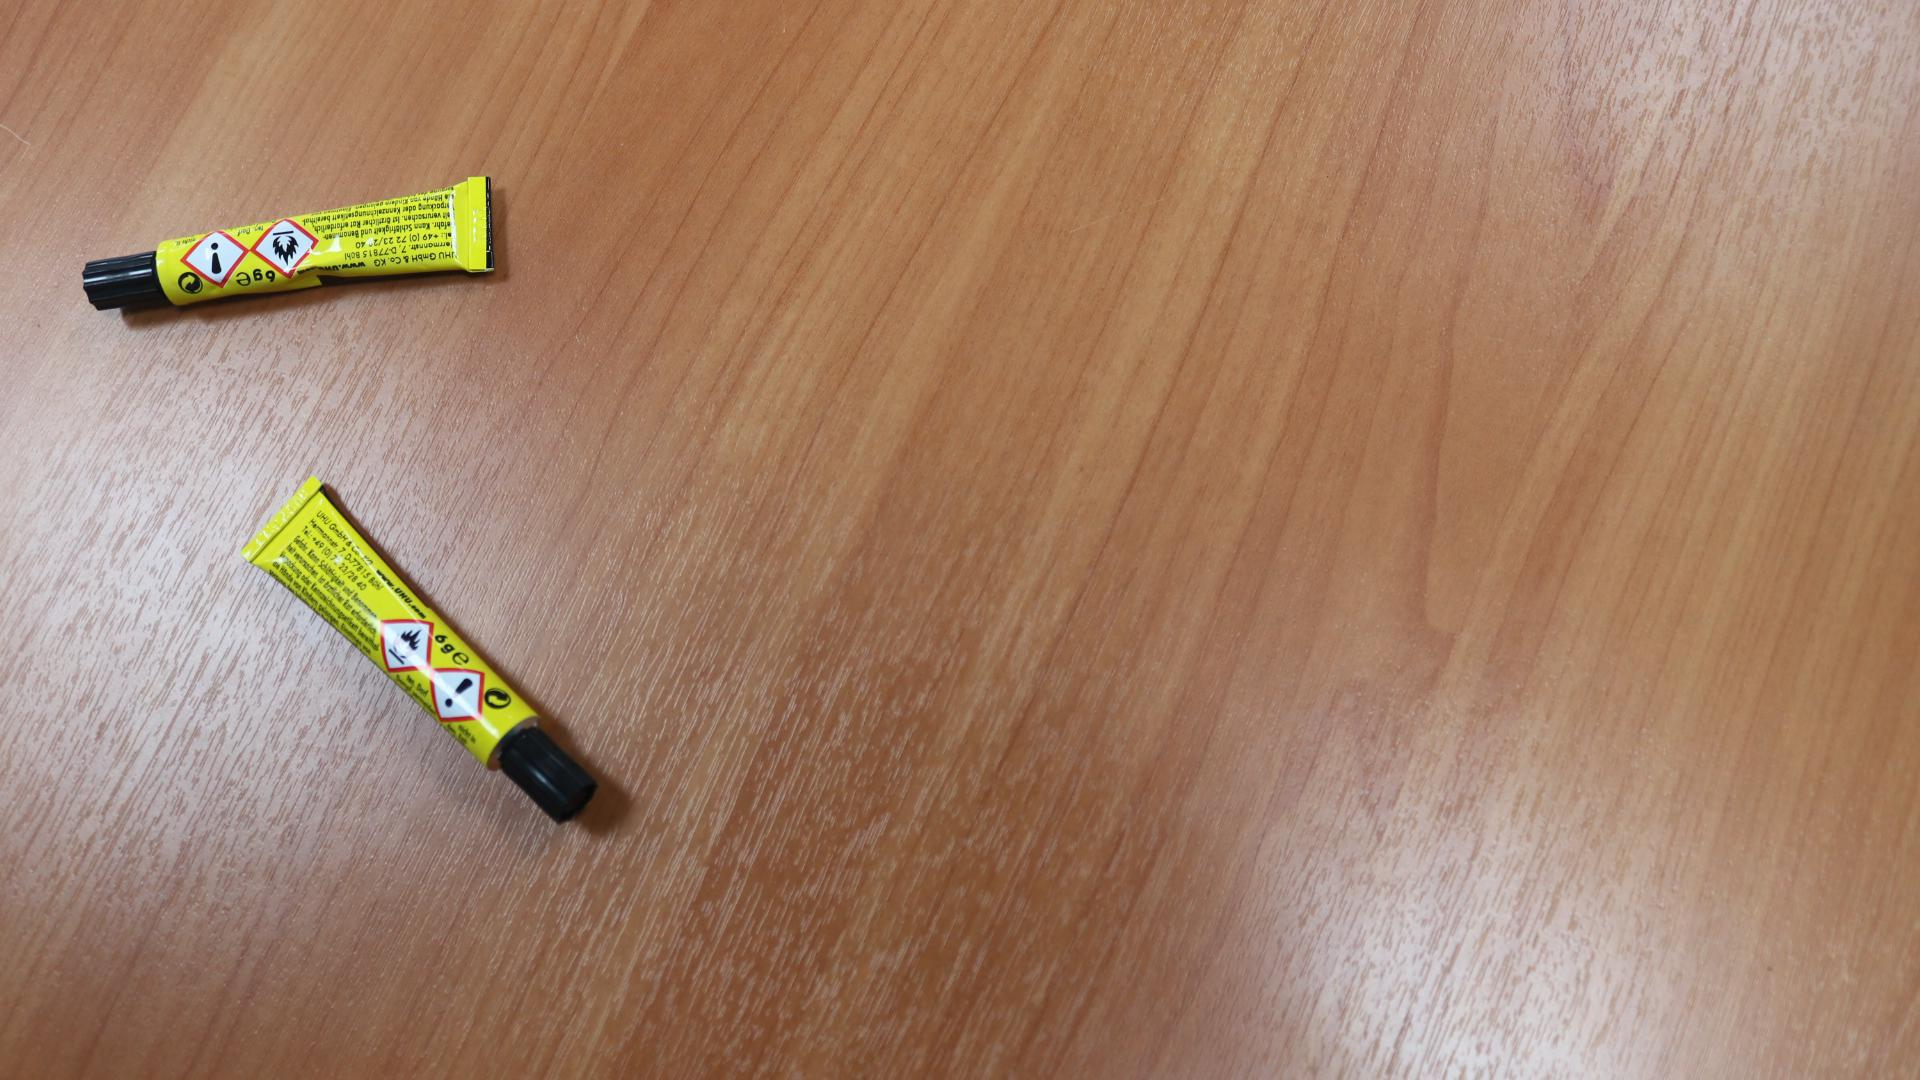Head: (536, 766, 550, 780), (117, 275, 128, 287)
Tail: (471, 213, 486, 231), (273, 517, 284, 528)
Tube: (240, 475, 598, 825), (83, 176, 495, 310)
